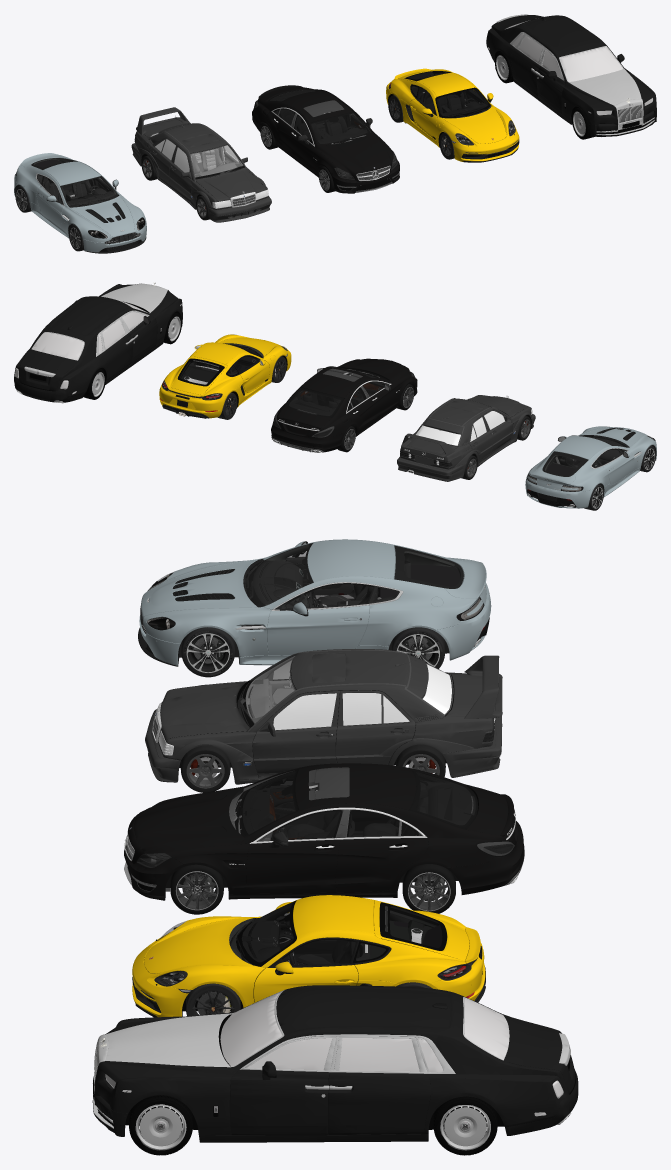
The model's file is cars_34.fbx.
The picture shows the model from 3 angles, top to bottom: view 1: azimuth 30°, elevation 25°; view 2: azimuth 150°, elevation 25°; view 3: azimuth 270°, elevation 25°; orthographic projection. The views are drawn at different scales.
Parts seen in each view (by area): view 1: Body_Material_002, Body_Car_body_color, Body_PAINT, Body_aMAT_Aston_Martin_V12_Va, Body_pM_CarPaint_Max1, SeeThrough_GLASS, SeeThrough_Material_001, Body_aMAT_Details_MAT1, Body_MCLS_tex, SeeThrough_aMAT_Glass1, SeeThrough_pM_Glass_WindowFront_Low, Body_Material_004 (+12 smaller); view 2: Body_Material_002, Body_Car_body_color, Body_PAINT, Body_aMAT_Aston_Martin_V12_Va, Body_pM_CarPaint_Max1, SeeThrough_GLASS, SeeThrough_Material_001, Body_aMAT_Details_MAT1, Body_MCLS_tex, SeeThrough_aMAT_Glass1, SeeThrough_pM_Glass_WindowFront_Low, Body_Material_015 (+7 smaller); view 3: Body_Material_002, Body_PAINT, Body_Car_body_color, Body_aMAT_Aston_Martin_V12_Va, Body_pM_CarPaint_Max1, SeeThrough_Material_001, SeeThrough_GLASS, Body_aMAT_Details_MAT1, Body_MCLS_tex, SeeThrough_aMAT_Glass1, SeeThrough_pM_Glass_WindowFront_Low, Body_Material_015 (+24 smaller).
Boxes of the visible parts, box(x1,y1,x2,y2) form: Body_Material_002: box(486, 15, 656, 137); Body_Car_body_color: box(131, 107, 271, 222); Body_PAINT: box(252, 85, 399, 193); Body_aMAT_Aston_Martin_V12_Va: box(14, 153, 146, 252); Body_pM_CarPaint_Max1: box(386, 68, 519, 161); SeeThrough_GLASS: box(254, 89, 399, 187); SeeThrough_Material_001: box(488, 21, 652, 114); Body_aMAT_Details_MAT1: box(14, 158, 144, 248); Body_MCLS_tex: box(270, 90, 375, 168); SeeThrough_aMAT_Glass1: box(15, 158, 144, 237); SeeThrough_pM_Glass_WindowFront_Low: box(389, 71, 515, 153); Body_Material_004: box(488, 14, 654, 135); Body_Material_002: box(14, 283, 182, 402); Body_Car_body_color: box(397, 395, 535, 481); Body_PAINT: box(271, 358, 417, 451); Body_aMAT_Aston_Martin_V12_Va: box(525, 426, 656, 508); Body_pM_CarPaint_Max1: box(159, 334, 291, 418); SeeThrough_GLASS: box(273, 367, 417, 437); SeeThrough_Material_001: box(15, 301, 181, 394); Body_aMAT_Details_MAT1: box(527, 428, 656, 506); Body_MCLS_tex: box(289, 368, 388, 415); SeeThrough_aMAT_Glass1: box(527, 426, 655, 491); SeeThrough_pM_Glass_WindowFront_Low: box(162, 334, 287, 399); Body_Material_015: box(101, 283, 167, 312); Body_Material_002: box(92, 985, 578, 1142); Body_PAINT: box(124, 763, 524, 900); Body_Car_body_color: box(145, 649, 502, 784); Body_aMAT_Aston_Martin_V12_Va: box(139, 539, 491, 665); Body_pM_CarPaint_Max1: box(132, 895, 485, 1017); SeeThrough_Material_001: box(106, 991, 563, 1116); SeeThrough_GLASS: box(131, 769, 515, 887); Body_aMAT_Details_MAT1: box(140, 541, 487, 663); Body_MCLS_tex: box(129, 767, 475, 841); SeeThrough_aMAT_Glass1: box(147, 543, 483, 629); SeeThrough_pM_Glass_WindowFront_Low: box(141, 902, 471, 999); Body_Material_015: box(105, 1013, 230, 1067).
Bounding box in the file's own units: 16.09 × 1.67 × 6.01.
Materials: 114 (112 with a texture image).
